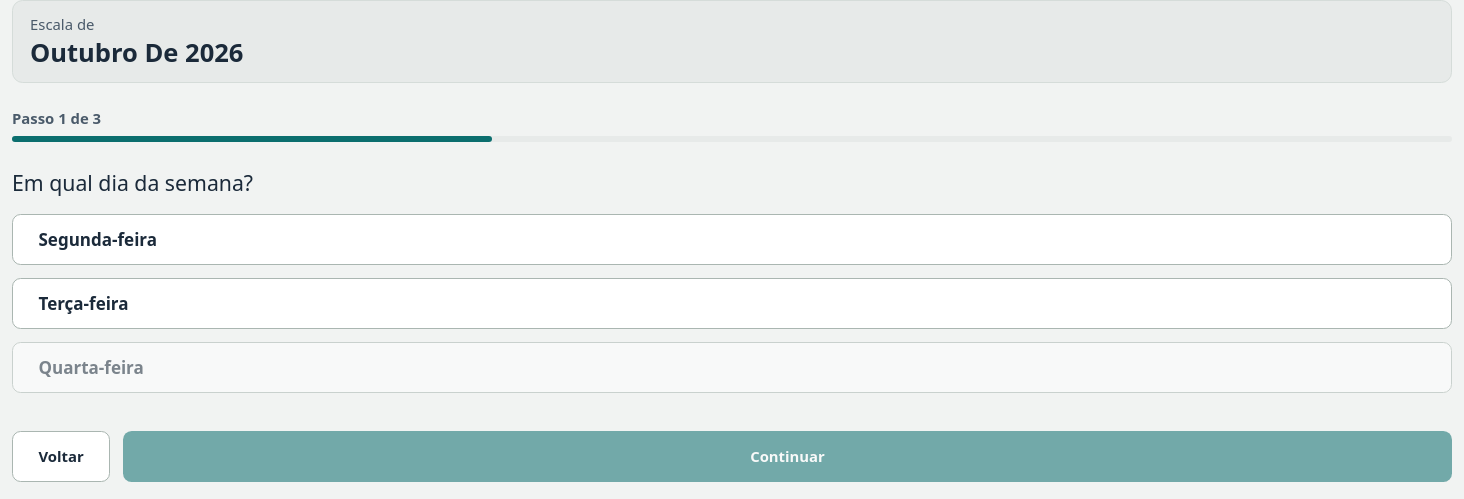
it: SolicitacaoWizard — dia, depois turno, depois carrinho › mostra só os turnos do dia em algum carrinho e desabilita o turno sem vaga livre
The image size is (1464, 499).
Check: the heading "Em qual dia da semana?" is shown, box [12,168,253,197]
Click the radio button labelled "Segunda-feira": x=98, y=240 [12,214,1452,266]
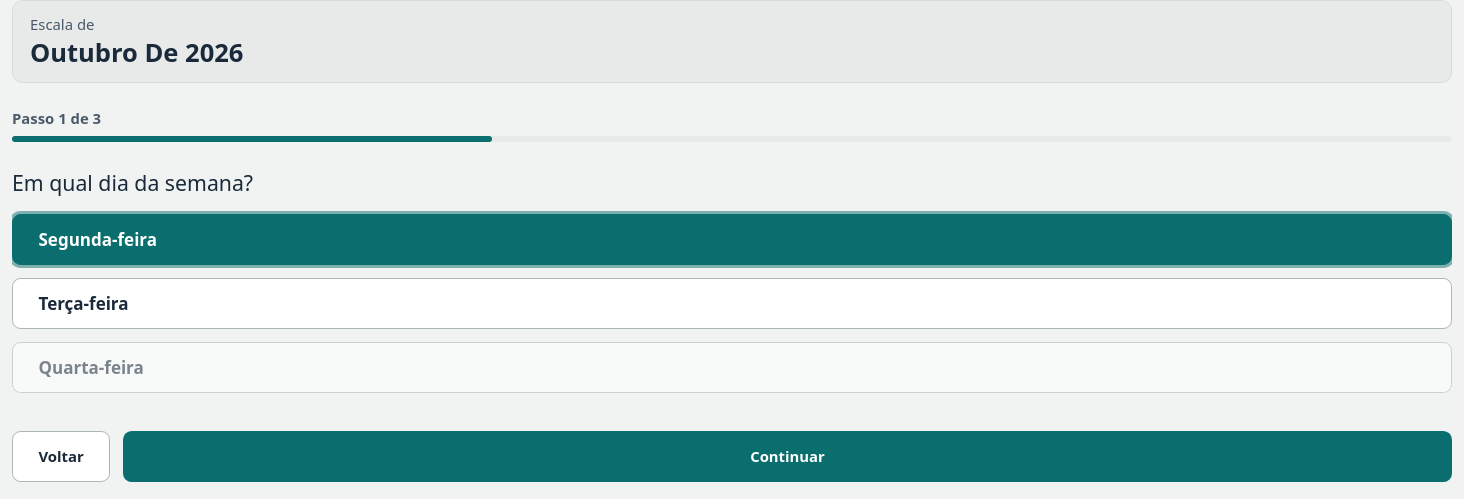
Click the button "Continuar": x=788, y=456 [123,431,1452,482]
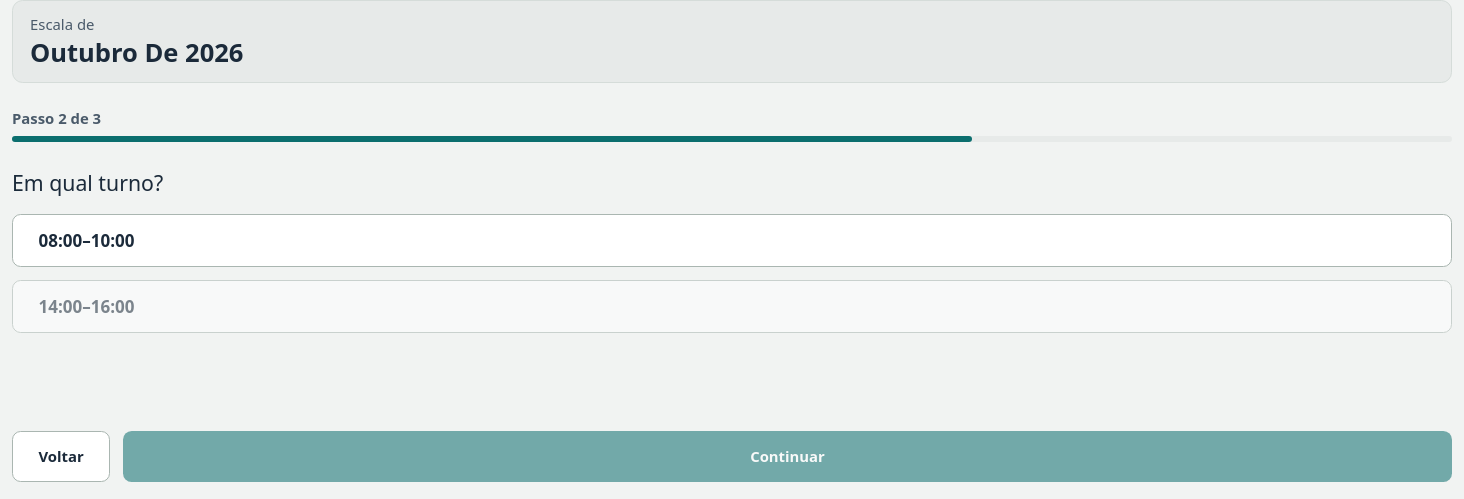
Check: the heading "Em qual turno?" is shown, box [12,168,163,197]
Check: the radio button labelled "08:00–10:00" is enabled, box [12,214,1452,268]
Check: the radio button labelled "14:00–16:00" is disabled, box [12,280,1452,333]
